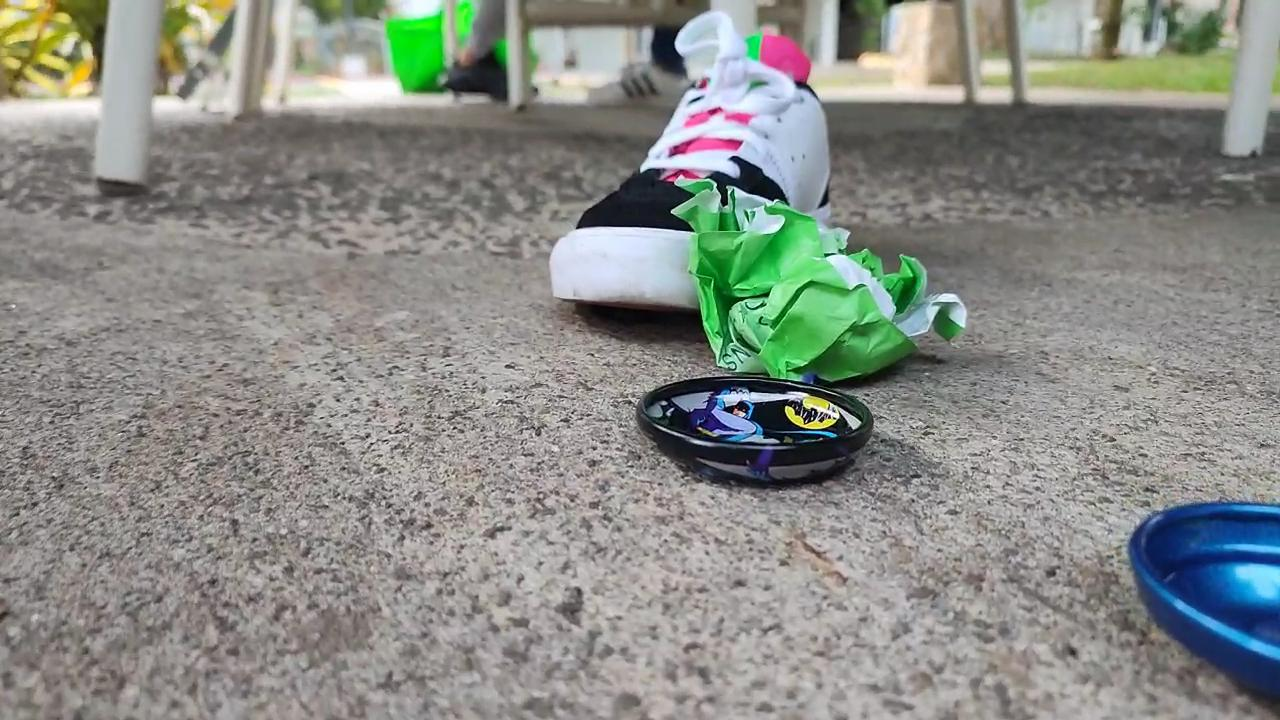Paper: (677, 164, 980, 390)
